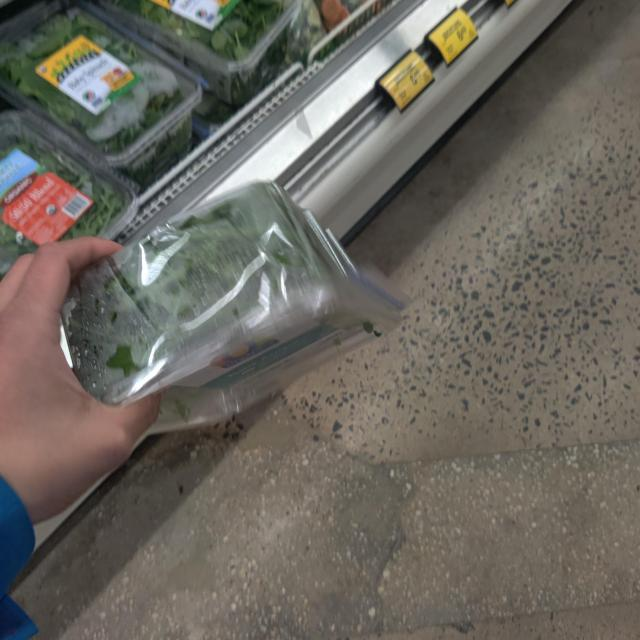Salad: (22, 179, 414, 450), (0, 0, 206, 177)
